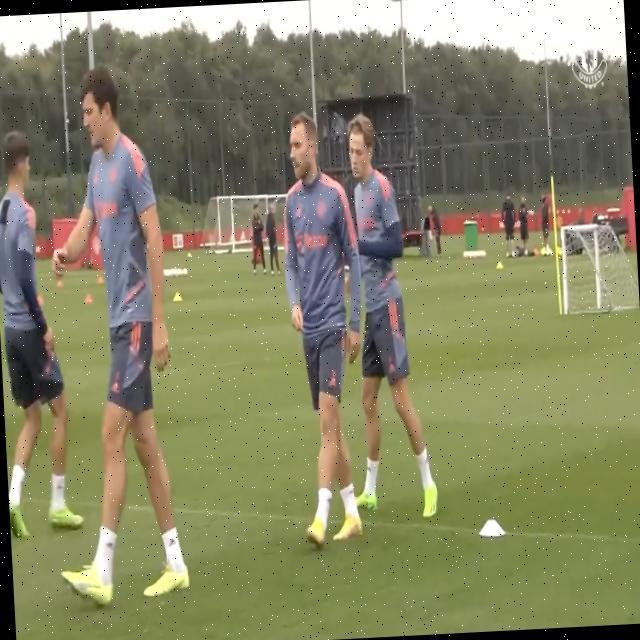Adidas: (325, 374, 338, 390), (168, 533, 178, 549), (112, 379, 122, 394)
